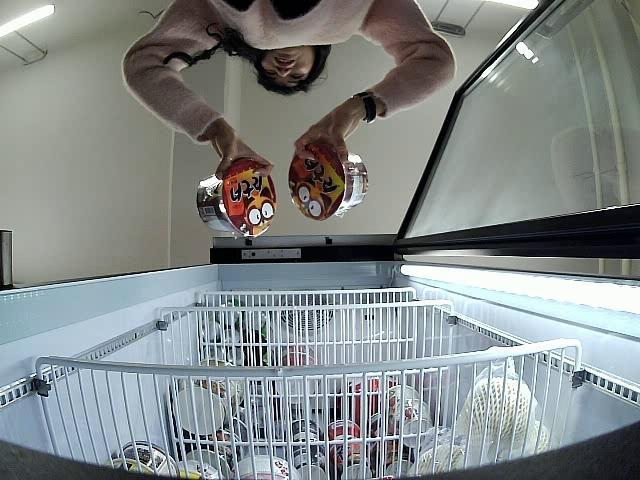05_nuguri_L: (287, 140, 369, 222), (195, 158, 275, 238)
